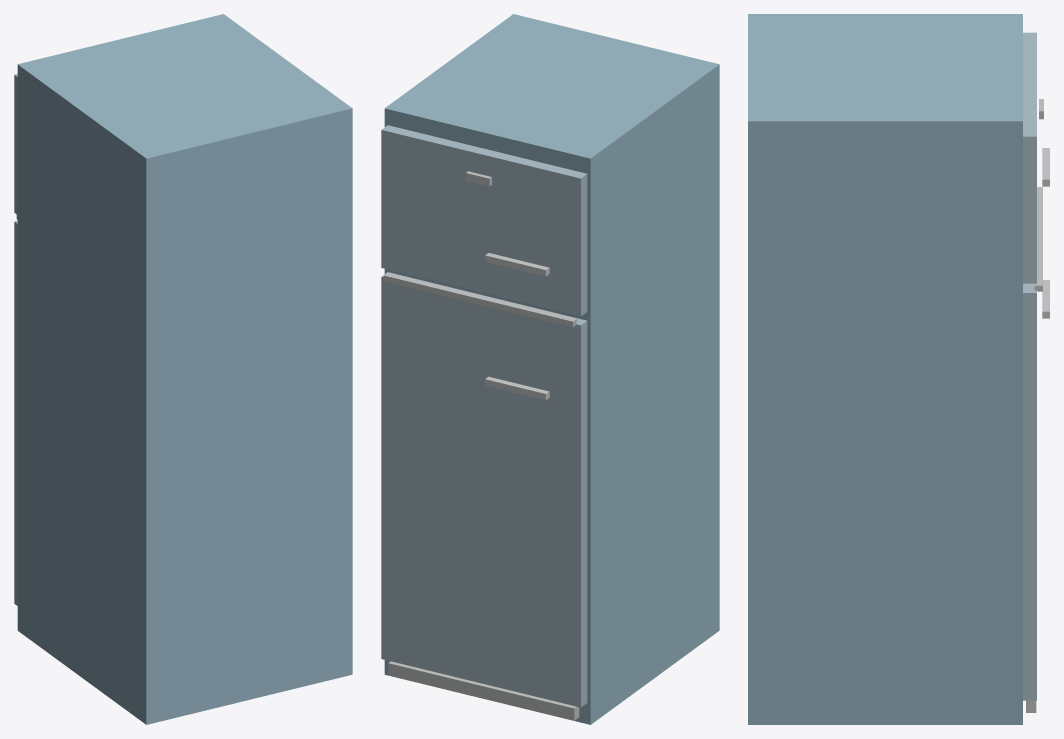
The model's file is refrigerator-retro-blue.gltf.
The picture shows the model from 3 angles, left to right: view 1: azimuth 30°, elevation 25°; view 2: azimuth 150°, elevation 25°; view 3: azimuth 270°, elevation 25°; orthographic projection. The views are drawn at different scales.
Parts seen in each view (by area): view 1: refrigerator-retro-blue; view 2: refrigerator-retro-blue; view 3: refrigerator-retro-blue.
Part boxes in pixels (x1,y1,x2,y2): refrigerator-retro-blue: (14, 14, 352, 724); refrigerator-retro-blue: (381, 14, 719, 724); refrigerator-retro-blue: (748, 14, 1049, 724).
Size of the model in its own units: 0.6096 by 1.6 by 0.7252.
